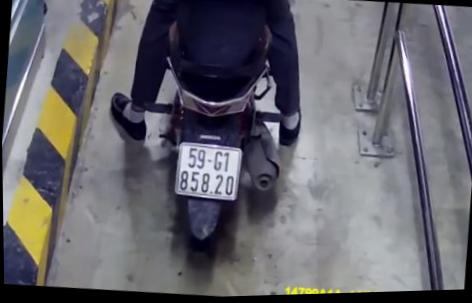LP: (174, 139, 243, 203)
